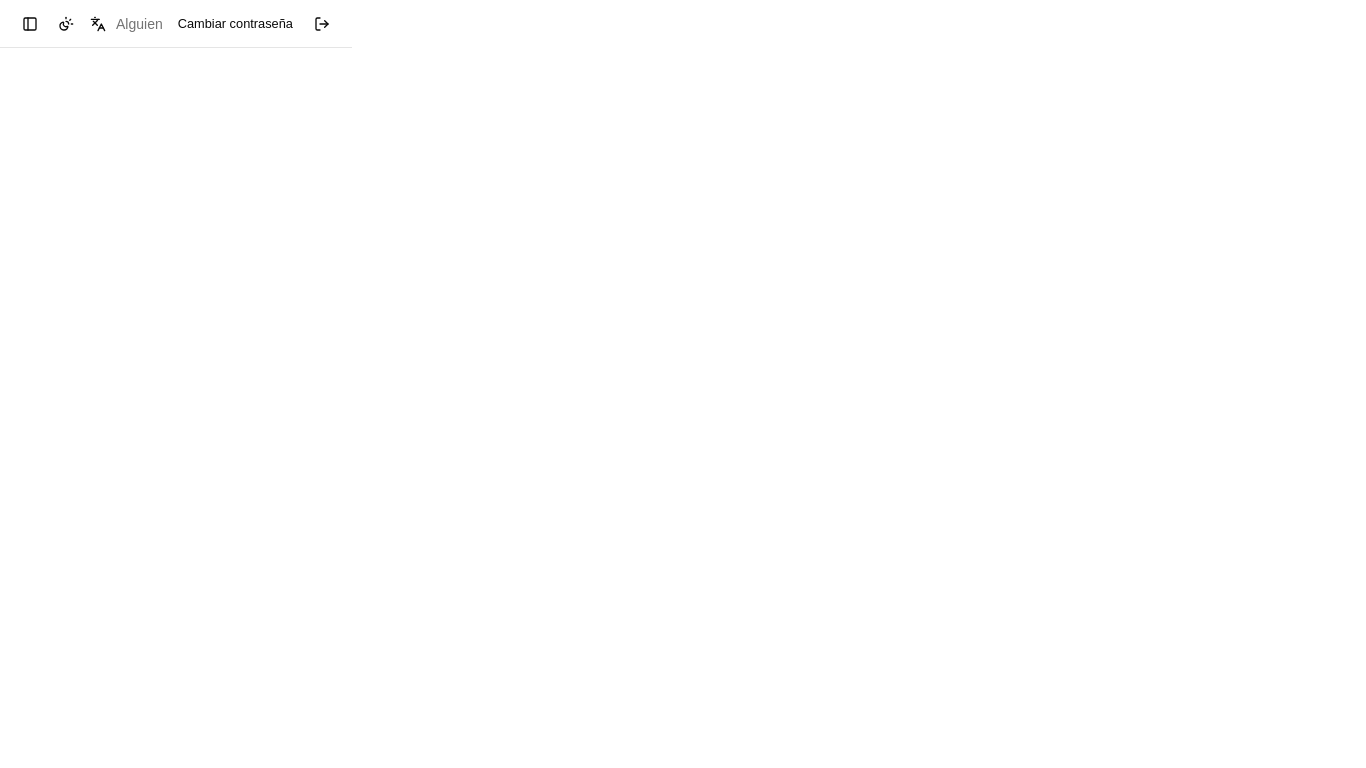
Topbar — logout › no cierra la sesión si se cancela la confirmación
Expected: the text "Alguien" is shown, 116,14 -> 163,34
Click the button named "Sesión" at (322, 24), box 308,10 -> 336,38
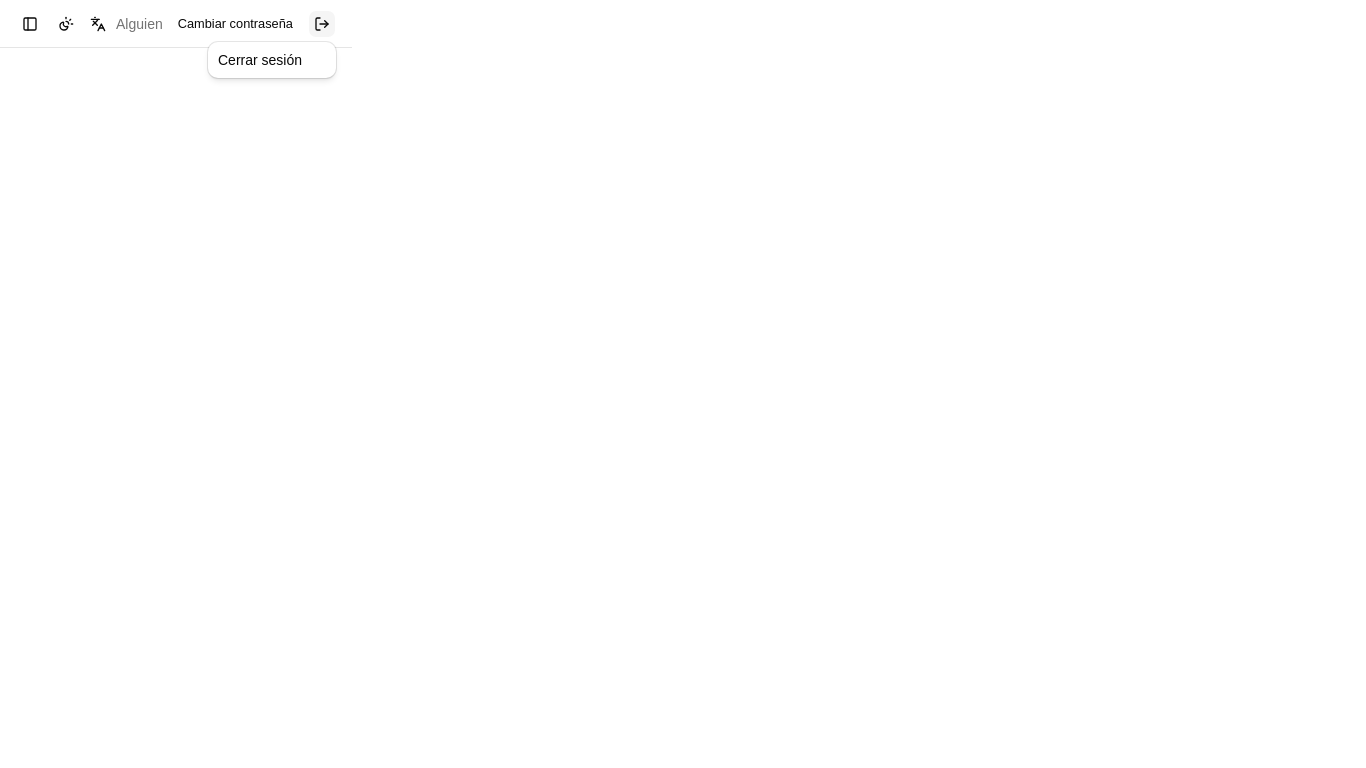
Click the menu item "Cerrar sesión" at (260, 60), box 218,52 -> 302,68
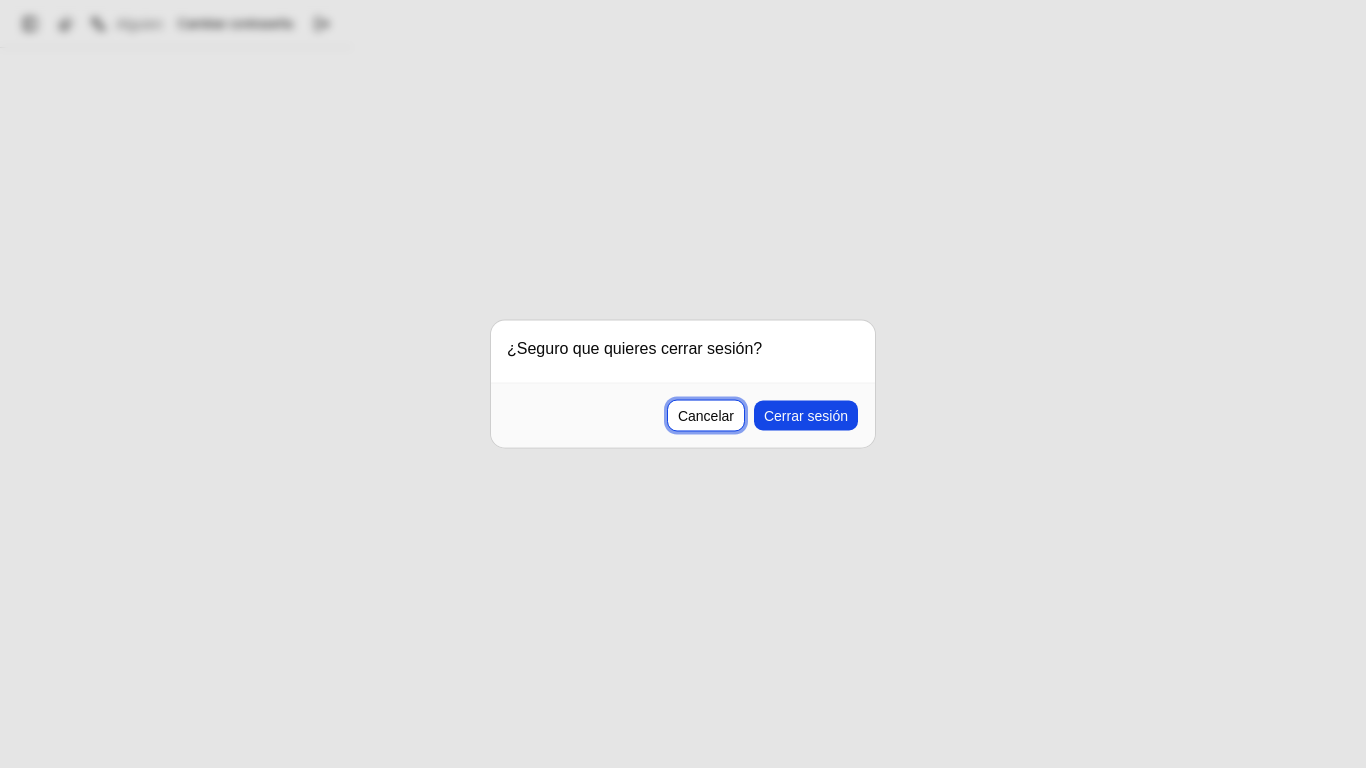
Expected: the heading "¿Seguro que quieres cerrar sesión?" is shown, 507,336 -> 762,360
Click the button "Cancelar" at (706, 416), box 667,400 -> 745,432
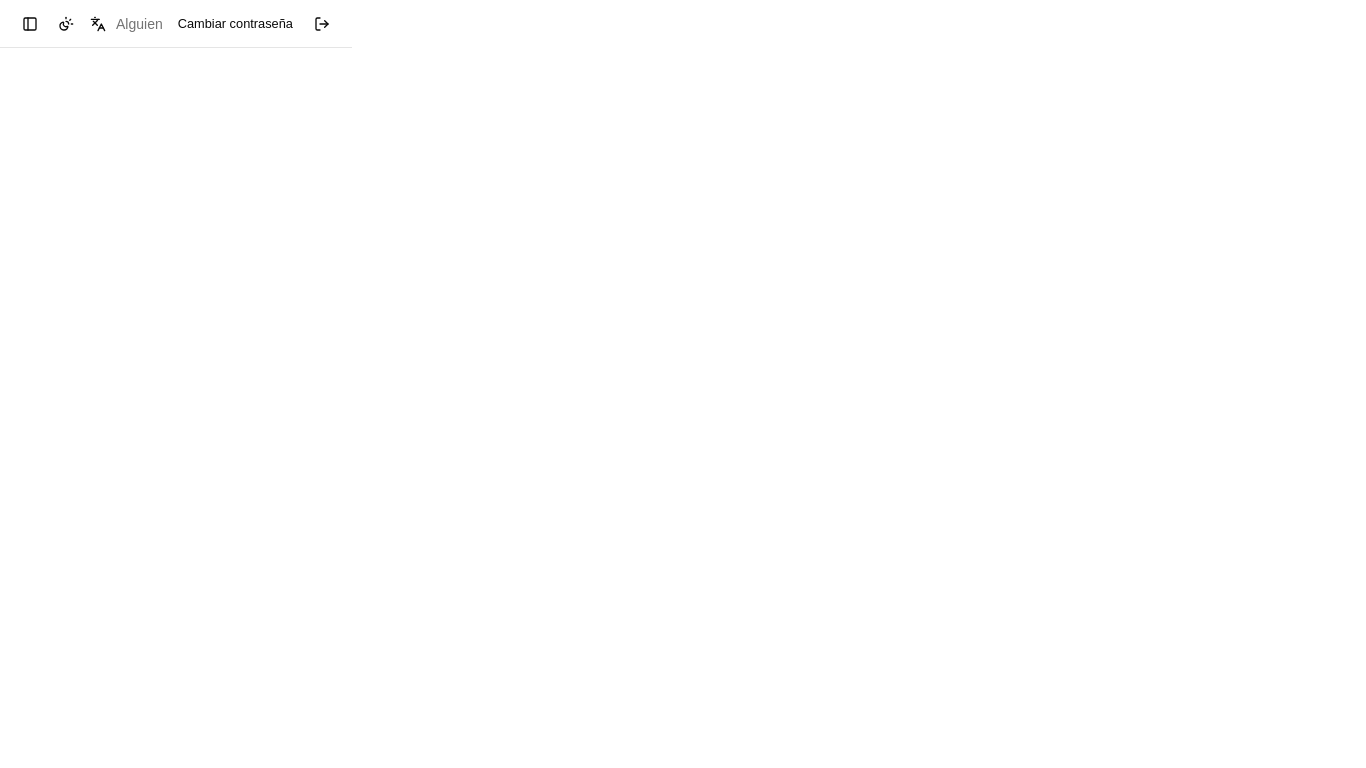
Expected: the heading "¿Seguro que quieres cerrar sesión?" is gone
